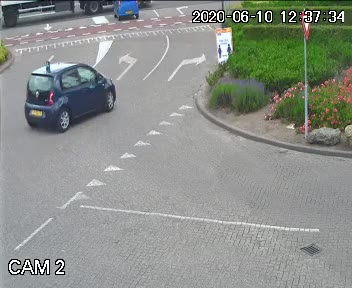car: (20, 55, 124, 123), (113, 0, 140, 22)
